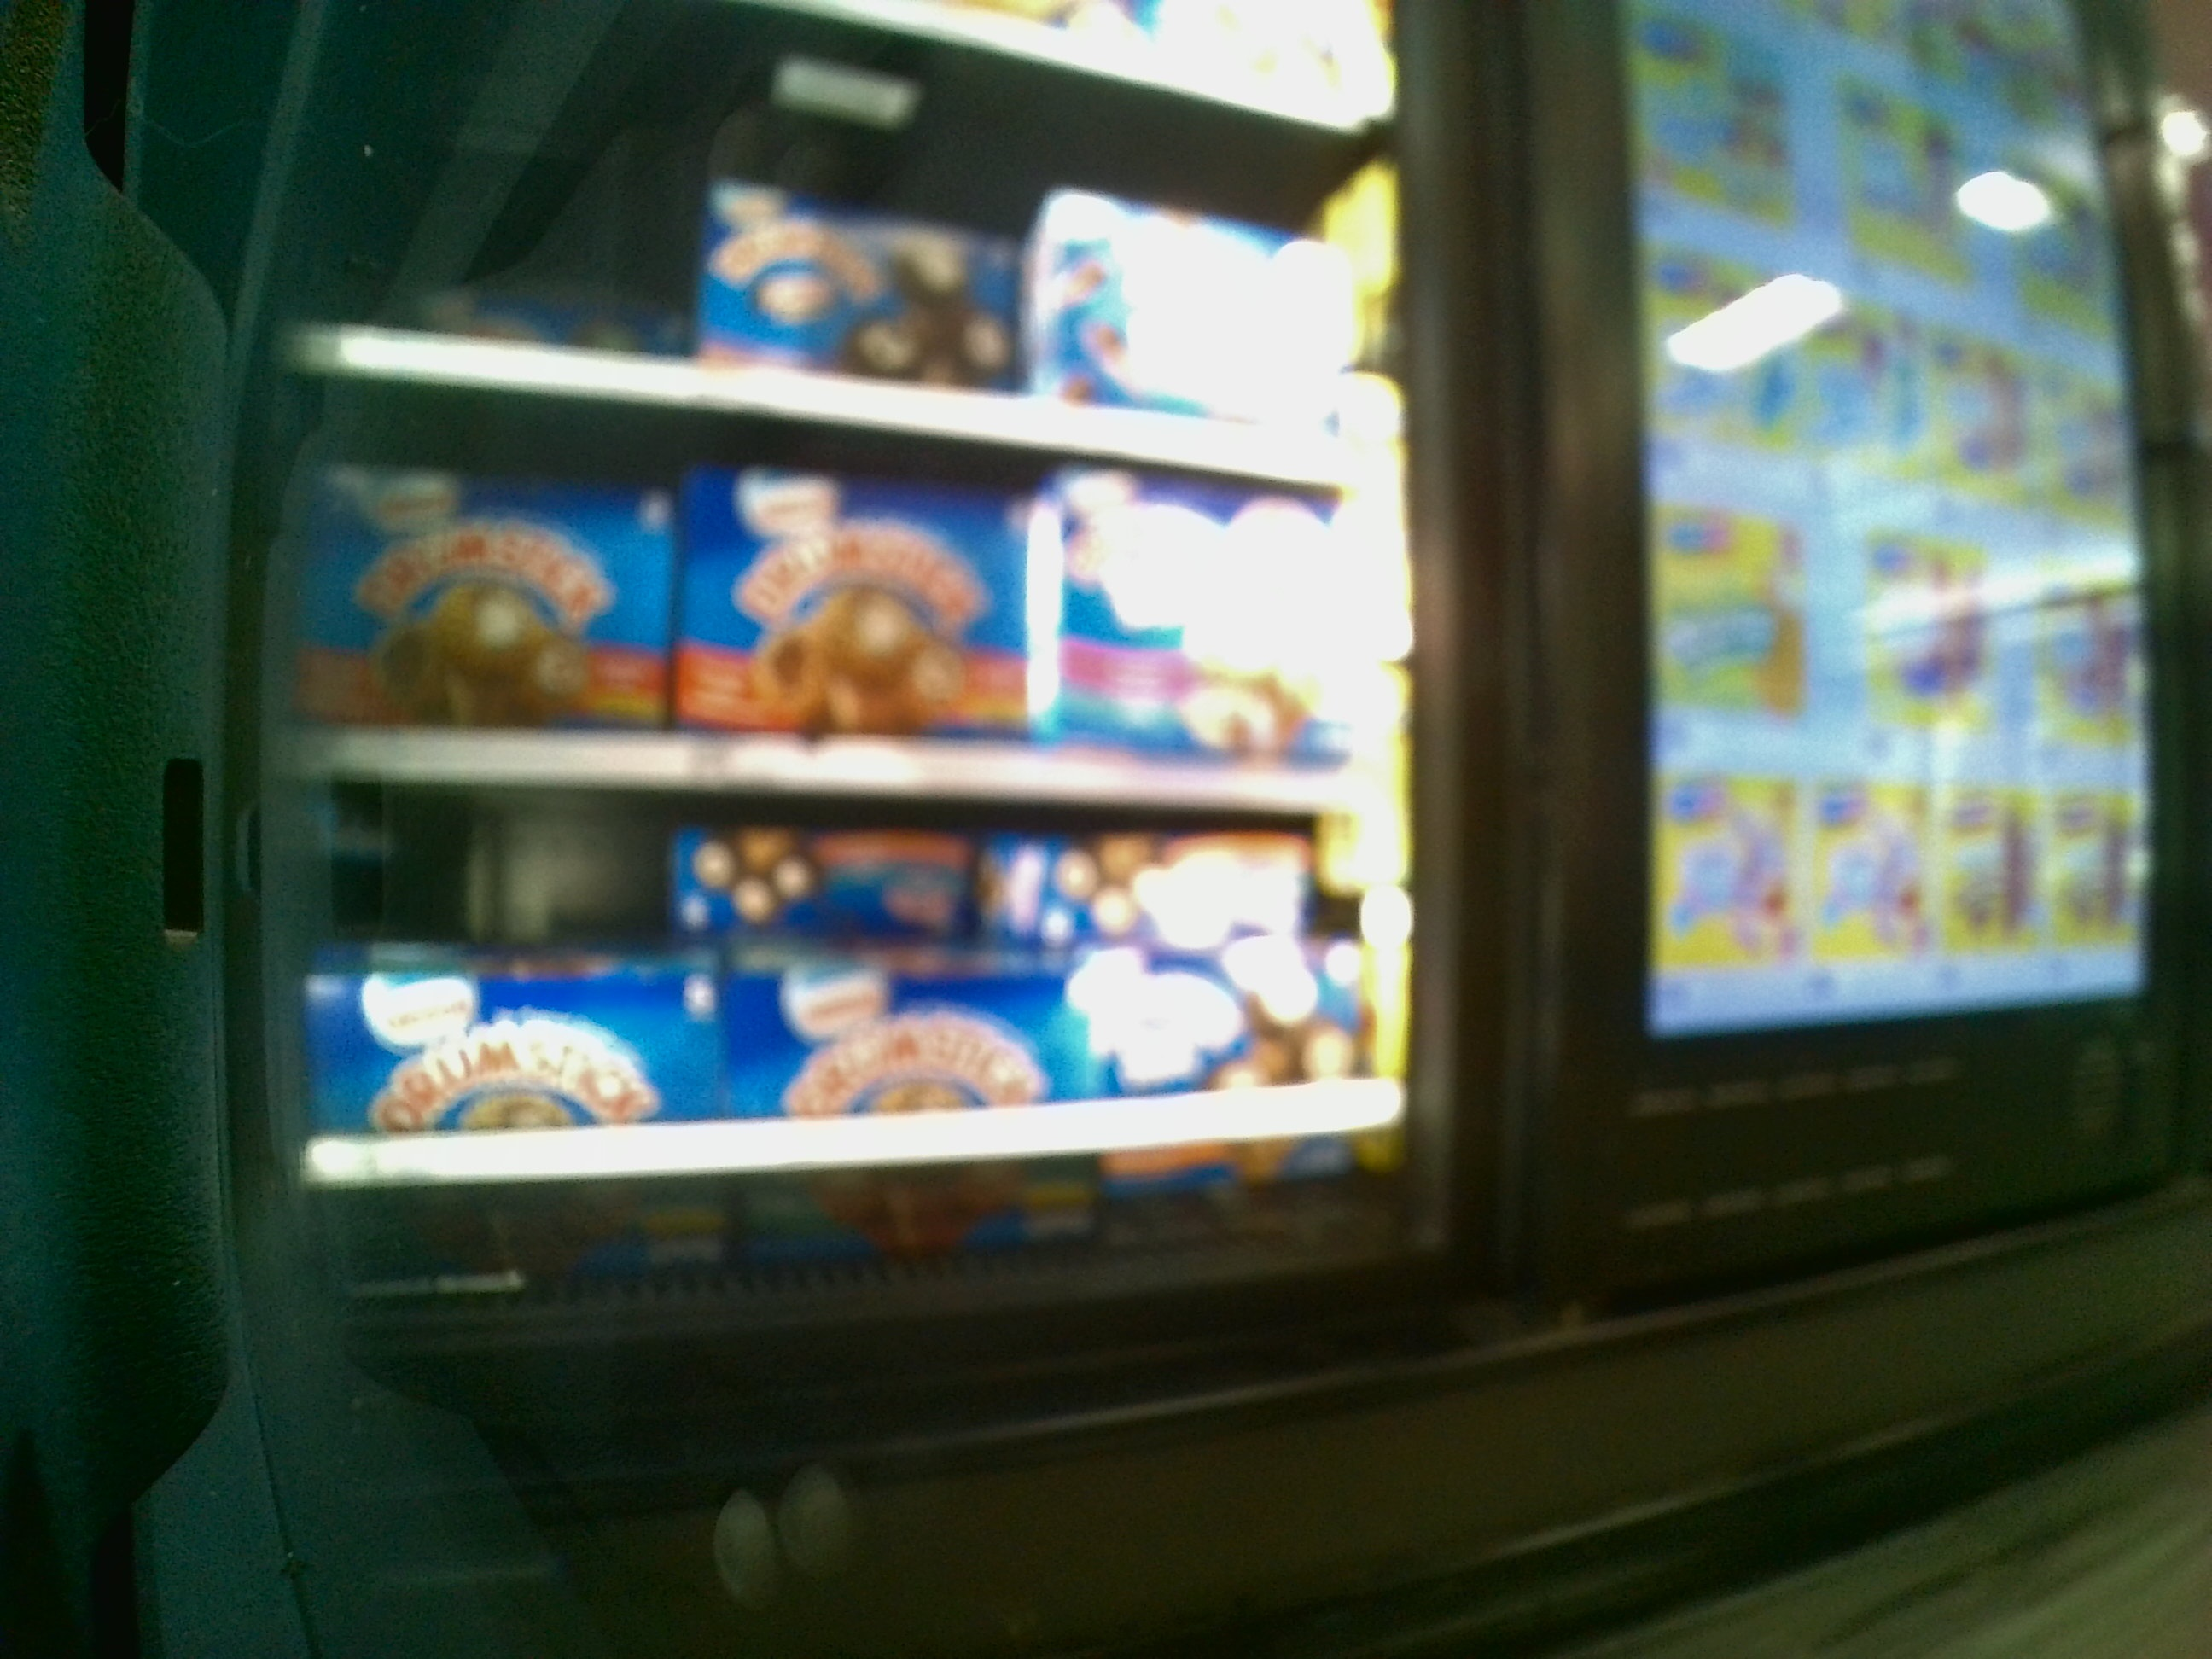shelf: (310, 781, 1397, 1253), (300, 443, 1376, 809)
